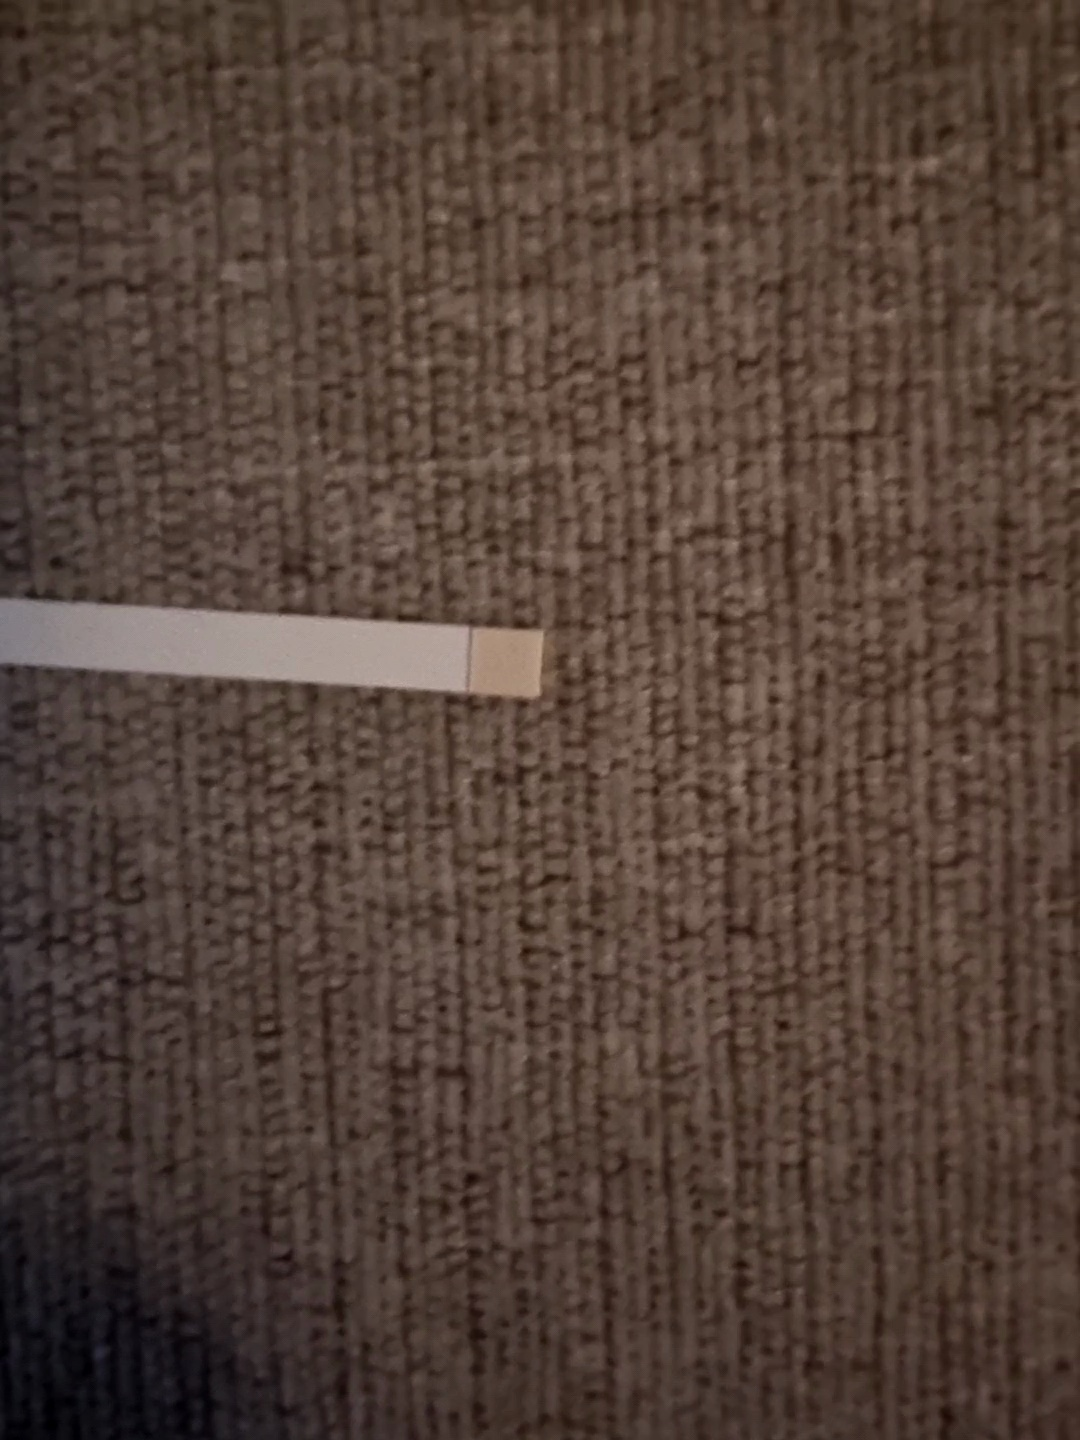keto-tip: (462, 621, 547, 706)
